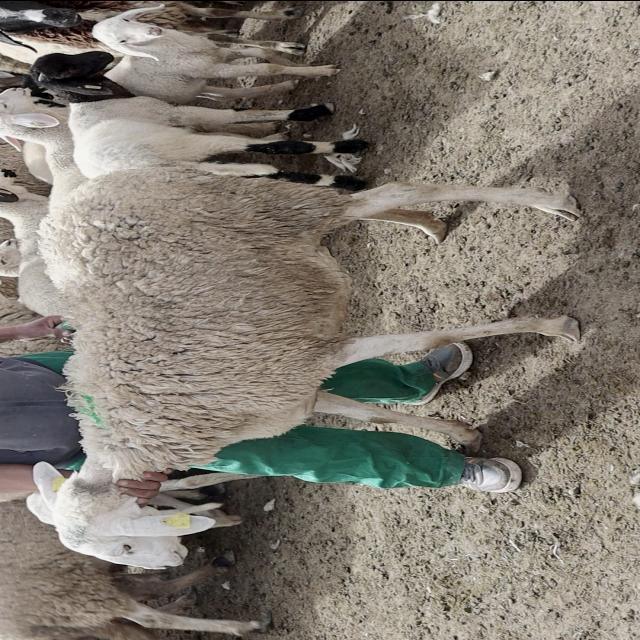Score_2: (33, 162, 580, 568)
